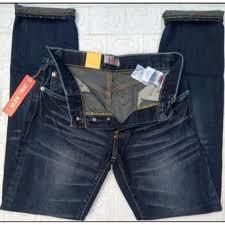short: (0, 49, 216, 218)
